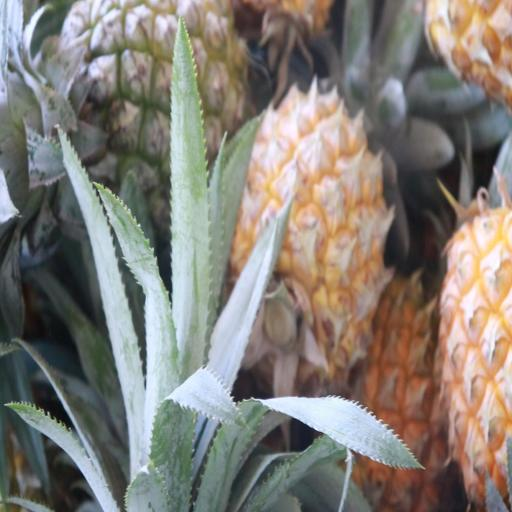Pineapple - v8 v1: (226, 96, 384, 380), (435, 196, 512, 511)
